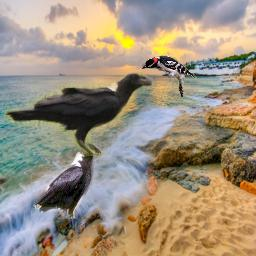Crow: (4, 72, 154, 156), (31, 140, 102, 219)
Woodpecker: (142, 55, 197, 100)
